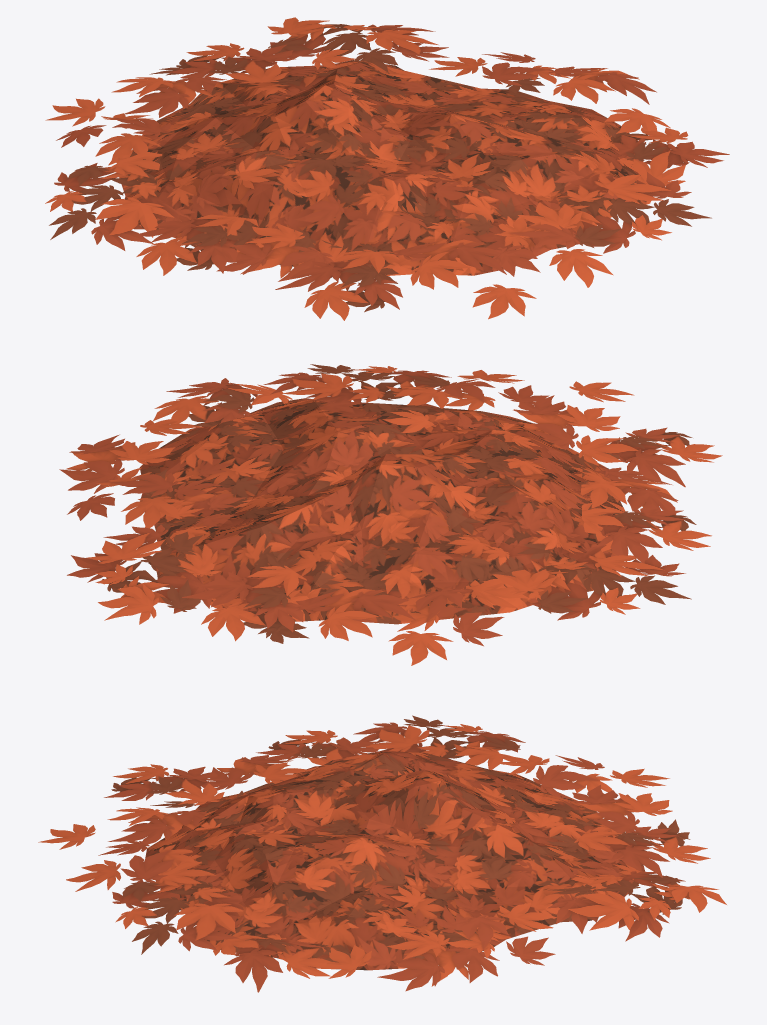
File: SM_Env_Ginko_Pile_03.fbx
3 views of the same model, one above another, from view 1: azimuth 30°, elevation 25°; view 2: azimuth 150°, elevation 25°; view 3: azimuth 270°, elevation 25° (orthographic). The views are drawn at different scales.
Parts seen in each view (by area): view 1: SM_Env_Ginko_Pile_03; view 2: SM_Env_Ginko_Pile_03; view 3: SM_Env_Ginko_Pile_03.
Boxes of the visible parts, x1,y1,x2,y2 form: SM_Env_Ginko_Pile_03: (45, 17, 729, 320); SM_Env_Ginko_Pile_03: (59, 364, 722, 665); SM_Env_Ginko_Pile_03: (38, 715, 726, 992).
Size of the model in its own units: 413 by 45.25 by 427.
